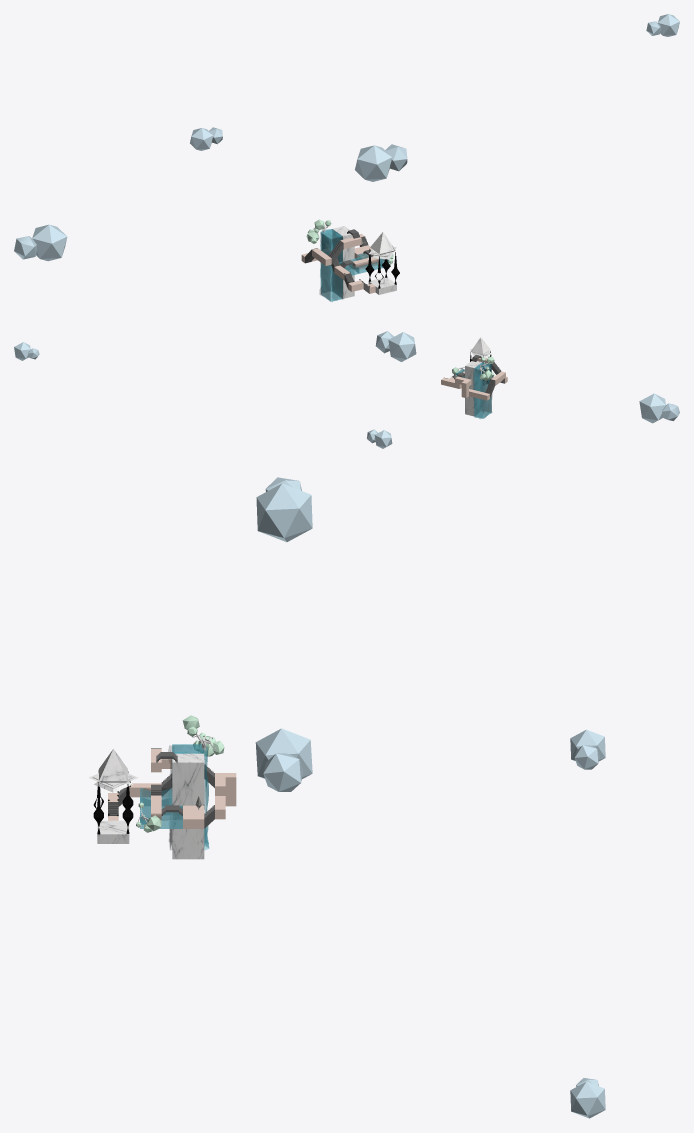
File: level1.4.fbx
3 views of the same model, one above another, from view 1: azimuth 30°, elevation 25°; view 2: azimuth 150°, elevation 25°; view 3: azimuth 270°, elevation 25° (orthographic). The views are drawn at different scales.
Visible parts, largest first — view 1: Wolke_r_2, Wolke_2, Wasser, start_1, Wolke_r, Wolke; view 2: Wolke_r_2, Wolke_2, start_1, Wasser, Wasser_3, Wolke_r, Wolke, Baum; view 3: start_1, Wolke_2, Wolke_r_2, Wolke, Wolke_r.
Part boxes in pixels (x1,y1,x2,y2): Wolke_r_2: (355,144,407,181); Wolke_2: (14,224,67,261); Wasser: (320,229,382,301); start_1: (332,226,354,298); Wolke_r: (190,127,222,150); Wolke: (646,14,679,36); Wolke_r_2: (375,331,416,361); Wolke_2: (639,393,679,423); start_1: (465,361,481,416); Wasser: (474,362,491,418); Wasser_3: (473,368,483,418); Wolke_r: (367,429,392,448); Wolke: (14,342,39,360); Baum: (479,356,494,380); start_1: (172,753,204,859); Wolke_2: (256,477,312,542); Wolke_r_2: (255,728,312,791); Wolke: (570,1078,605,1118); Wolke_r: (570,729,605,769).
Size of the model in its own units: 1272 by 178 by 484.
21 materials, 3 textured.
